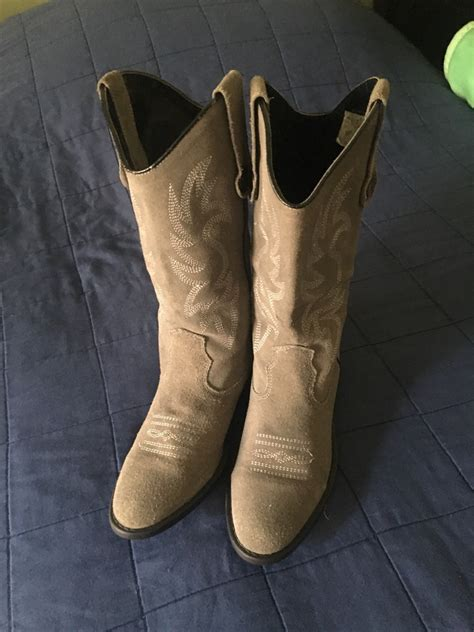gamuza: (99, 72, 384, 556)
